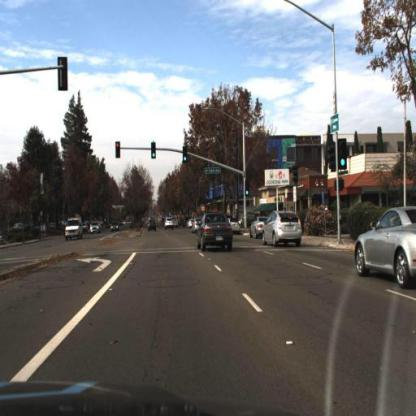car: (355, 207, 416, 282), (197, 210, 236, 252), (261, 211, 302, 249), (61, 214, 86, 247), (63, 220, 86, 243), (191, 213, 209, 237), (88, 218, 105, 238), (163, 216, 179, 234), (229, 215, 242, 236), (146, 218, 161, 236), (243, 179, 252, 199)
trafficLight-Green: (339, 135, 349, 174), (150, 141, 158, 163), (182, 146, 190, 167), (182, 151, 190, 168), (244, 185, 253, 199), (151, 148, 159, 163)
trafficLight-Red: (115, 138, 122, 156)
trafficLight-RedLeft: (115, 137, 122, 160)
